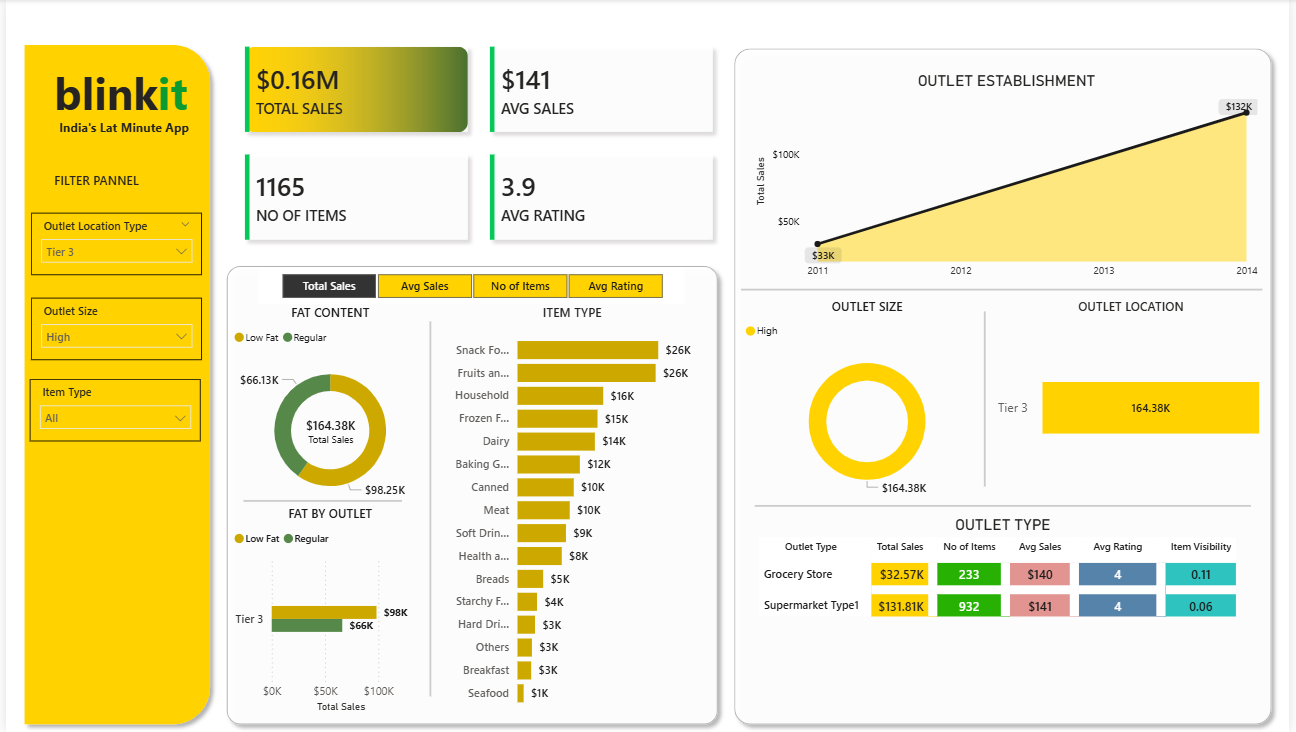

The page's visual inventory and layout, read from the dashboard file:
{"tool":"powerbi","page":{"name":"Page 1","canvas":[1400,800],"ordinal":0},"visuals":[{"type":"shape","box":[10.9,40.9,220.9,759.4],"z":0},{"type":"textbox","box":[47.7,125.4,162.2,32.7],"z":1000},{"type":"textbox","box":[47.7,64.1,165,77.7],"z":2000},{"type":"cardVisual","fields":{"Data":["BlinkIT Grocery Data.Total Sales","BlinkIT Grocery Data.Avg Sales","BlinkIT Grocery Data.No of Items","BlinkIT Grocery Data.Avg Rating"]},"box":[231.8,23.2,569.9,269.9],"z":3000},{"type":"shape","box":[231.8,282.2,553.5,518.1],"z":4000},{"type":"slicer","fields":{"Values":["Metrics.Metrics"]},"box":[275.4,293.1,464.9,39.5],"z":5000},{"type":"donutChart","title":"FAT CONTENT","fields":{"Y":["BlinkIT Grocery Data.Total Sales"],"Category":["BlinkIT Grocery Data.Item Fat Content"]},"box":[244,332.7,219.5,230.4],"z":6000},{"type":"cardVisual","fields":{"Data":["BlinkIT Grocery Data.Total Sales"]},"box":[276.8,439,155.4,64.1],"z":7000},{"type":"clusteredBarChart","title":"FAT BY OUTLET","fields":{"Y":["BlinkIT Grocery Data.Total Sales"],"Category":["BlinkIT Grocery Data.Outlet Location Type"],"Series":["BlinkIT Grocery Data.Item Fat Content"]},"box":[244,552.2,219.5,230.4],"z":8000},{"type":"shape","box":[259,531.7,173.1,31.4],"z":9000},{"type":"shape","box":[376.3,351.7,173.1,409],"z":10000},{"type":"barChart","title":"ITEM TYPE","fields":{"Y":["BlinkIT Grocery Data.Total Sales"],"Category":["BlinkIT Grocery Data.Item Type"]},"box":[473.1,332.7,289,449.9],"z":11000},{"type":"shape","box":[785.3,45,604,755.3],"z":12000},{"type":"lineChart","title":"OUTLET ESTABLISHMENT","fields":{"Y":["BlinkIT Grocery Data.Total Sales"],"Category":["BlinkIT Grocery Data.Outlet Establishment Year"]},"box":[812.5,79.1,557.6,234.5],"z":13000},{"type":"shape","box":[801.6,301.3,568.5,31.4],"z":14000},{"type":"donutChart","title":"OUTLET SIZE","fields":{"Y":["BlinkIT Grocery Data.Total Sales"],"Category":["BlinkIT Grocery Data.Outlet Size"]},"box":[801.6,325.8,275.4,225],"z":15000},{"type":"shape","box":[1048.4,340.8,38.2,190.9],"z":16000},{"type":"funnel","title":"OUTLET LOCATION","fields":{"Y":["Sum(BlinkIT Grocery Data.Sales)"],"Category":["BlinkIT Grocery Data.Outlet Location Type"]},"box":[1077,325.8,299.9,222.2],"z":17000},{"type":"pivotTable","title":"OUTLET TYPE","fields":{"Rows":["BlinkIT Grocery Data.Outlet Type"],"Values":["BlinkIT Grocery Data.Total Sales","BlinkIT Grocery Data.No of Items","BlinkIT Grocery Data.Avg Sales","BlinkIT Grocery Data.Avg Rating","Avg(BlinkIT Grocery Data.Item Visibility)"]},"box":[816.6,563.1,541.2,216.8],"z":18000},{"type":"shape","box":[816.6,537.2,541.2,31.4],"z":19000},{"type":"slicer","title":"FILTER PANNEL","fields":{"Values":["BlinkIT Grocery Data.Outlet Location Type"]},"box":[27.3,233.1,186.8,68.2],"z":20000},{"type":"slicer","fields":{"Values":["BlinkIT Grocery Data.Outlet Size"]},"box":[27.3,325.8,186.8,68.2],"z":21000},{"type":"slicer","fields":{"Values":["BlinkIT Grocery Data.Item Type"]},"box":[25.9,414.5,186.8,68.2],"z":22000},{"type":"textbox","box":[47.7,184.1,166.3,27.3],"z":23000}]}

Visuals, with their boxes in screenshot pixels (x1, y1, x2, y2), scaled from the page's 1400x800 canvas onto the 1296x732 screenshot:
shape: locate(10, 37, 215, 731)
textbox: locate(44, 115, 194, 145)
textbox: locate(44, 59, 197, 130)
cardVisual - BlinkIT Grocery Data.Total Sales x BlinkIT Grocery Data.Avg Sales: locate(215, 21, 742, 268)
shape: locate(215, 258, 727, 731)
slicer - Metrics.Metrics: locate(255, 268, 685, 304)
"FAT CONTENT" donutChart: locate(226, 304, 429, 515)
cardVisual - BlinkIT Grocery Data.Total Sales: locate(256, 402, 400, 460)
"FAT BY OUTLET" clusteredBarChart: locate(226, 505, 429, 716)
shape: locate(240, 487, 400, 515)
shape: locate(348, 322, 509, 696)
"ITEM TYPE" barChart: locate(438, 304, 705, 716)
shape: locate(727, 41, 1286, 731)
"OUTLET ESTABLISHMENT" lineChart: locate(752, 72, 1268, 287)
shape: locate(742, 276, 1268, 304)
"OUTLET SIZE" donutChart: locate(742, 298, 997, 504)
shape: locate(971, 312, 1006, 487)
"OUTLET LOCATION" funnel: locate(997, 298, 1275, 501)
"OUTLET TYPE" pivotTable: locate(756, 515, 1257, 714)
shape: locate(756, 492, 1257, 520)
"FILTER PANNEL" slicer: locate(25, 213, 198, 276)
slicer - BlinkIT Grocery Data.Outlet Size: locate(25, 298, 198, 361)
slicer - BlinkIT Grocery Data.Item Type: locate(24, 379, 197, 442)
textbox: locate(44, 168, 198, 193)
